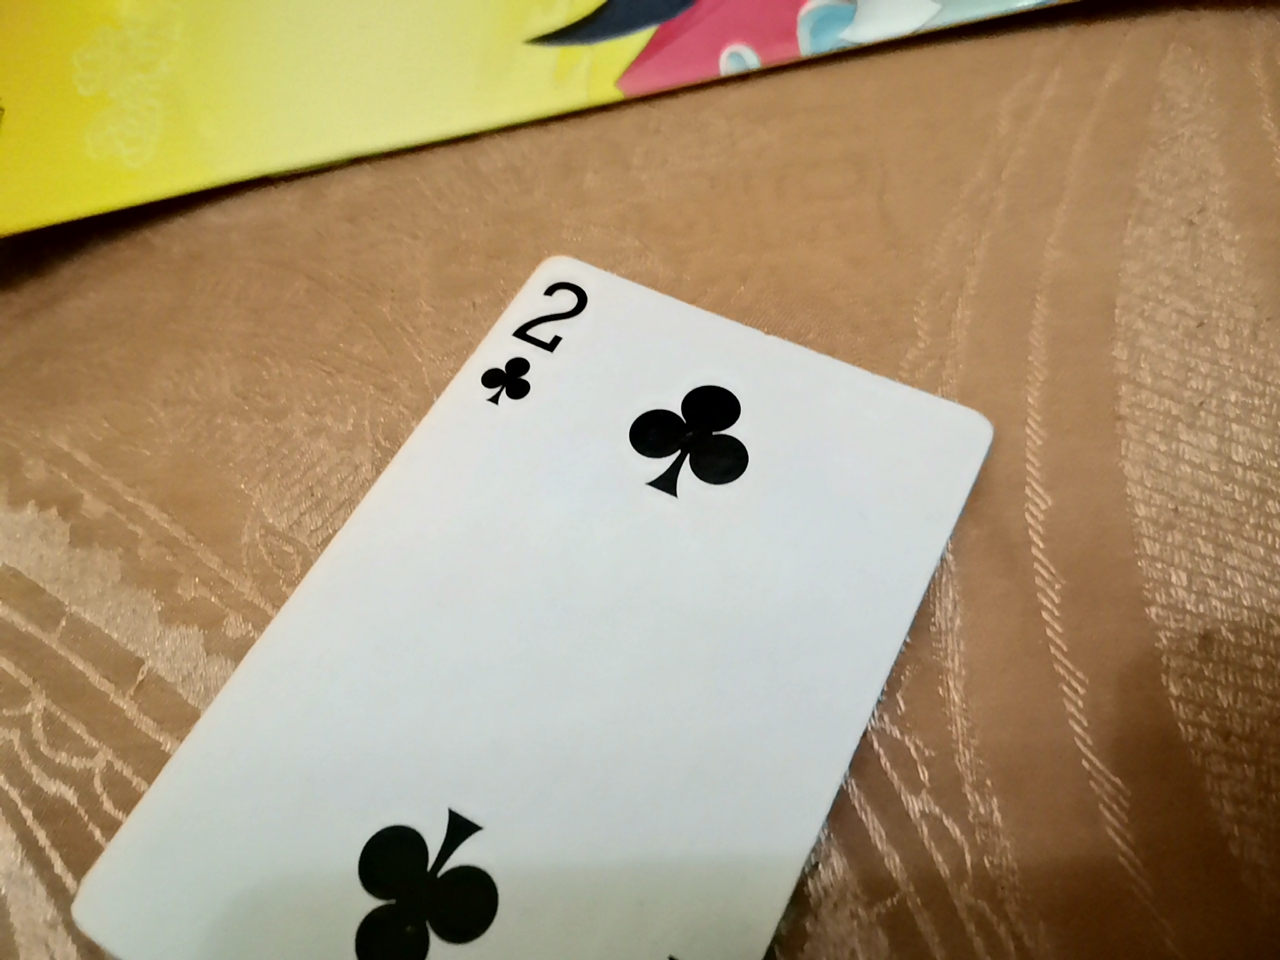mh 2: (84, 242, 1014, 955)
